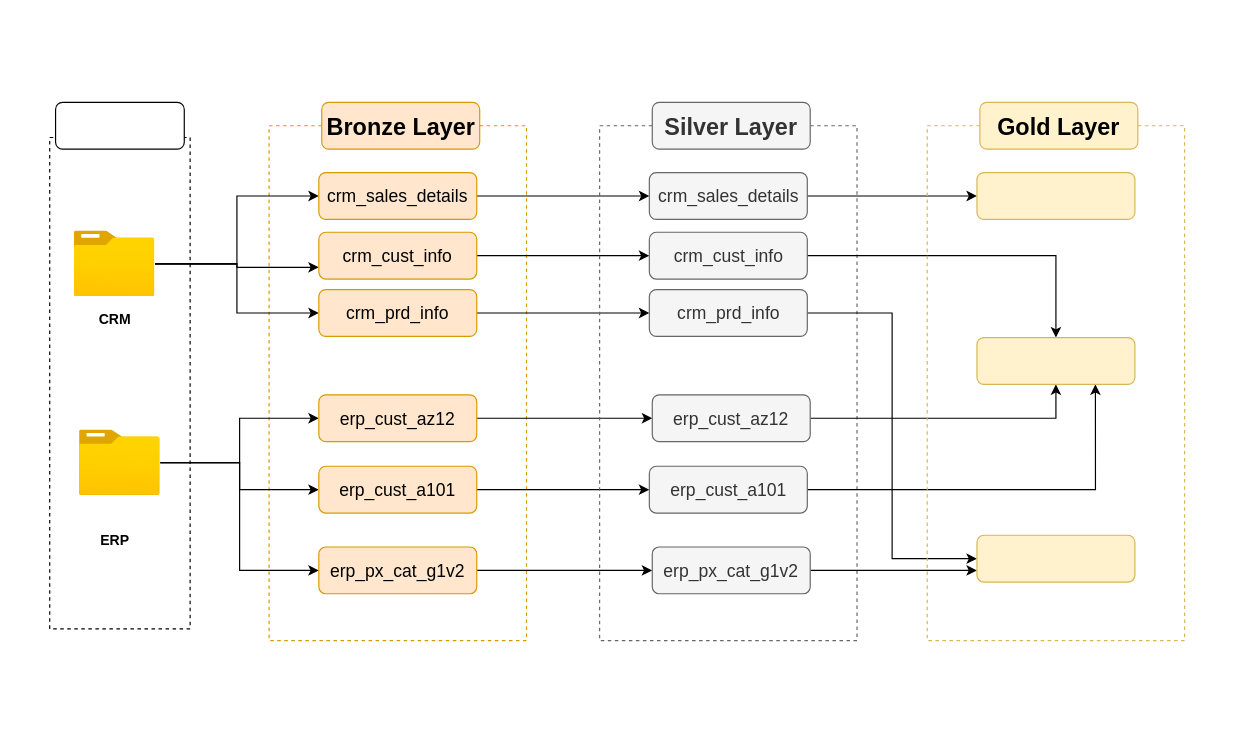
Some shapes in this 1252 by 742 pixel diagram are drawn without their labels. Each missing label, with the box of its shape:
dim_customers: (976, 336, 1135, 384)
dim_products: (976, 534, 1135, 582)
fact_sales: (976, 171, 1135, 219)
Sources: (54, 101, 184, 149)
